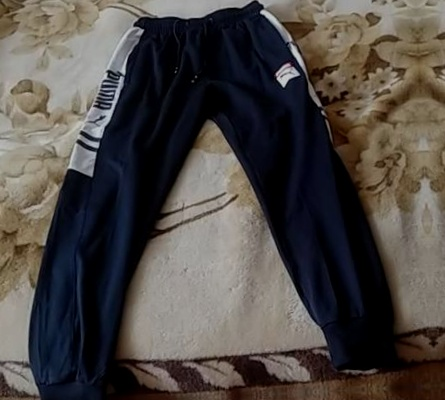Pants: (1, 2, 410, 397), (442, 0, 445, 375), (21, 398, 430, 400)
